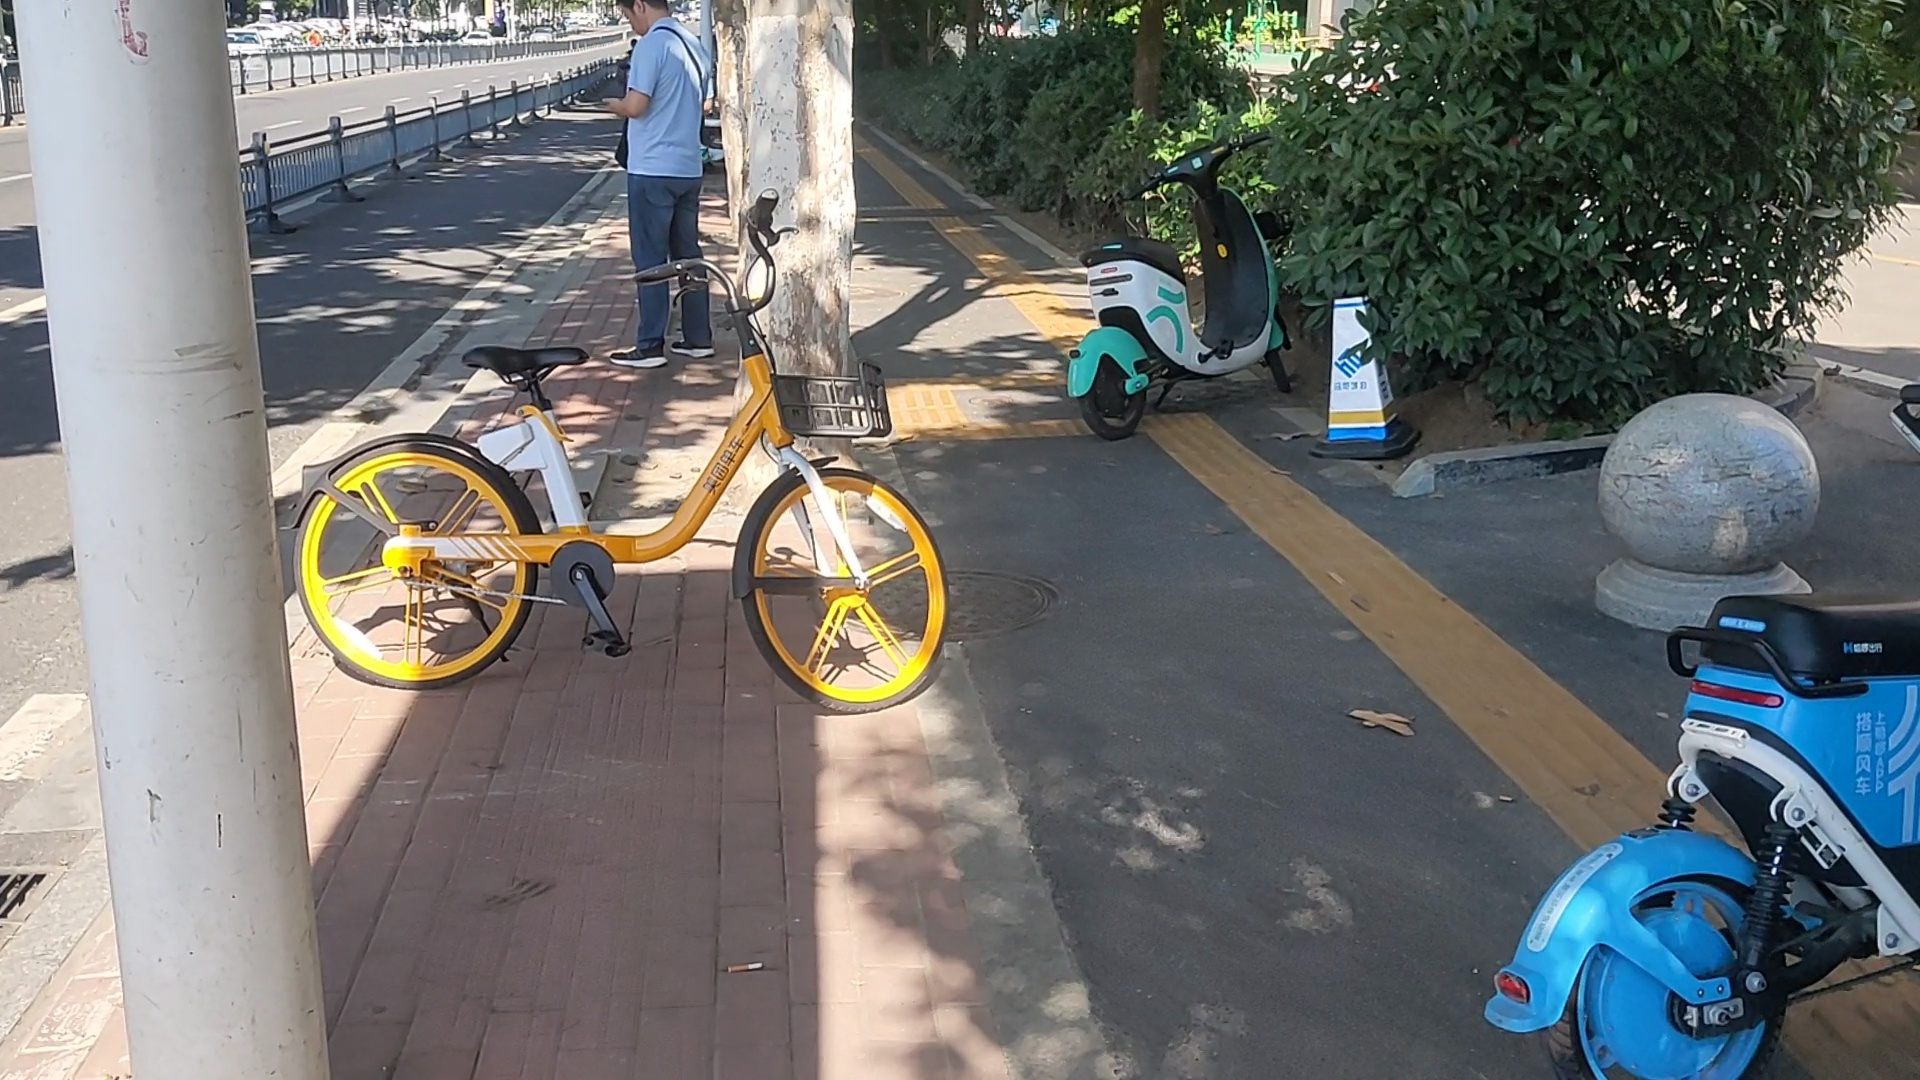non-vehicle: (301, 229, 957, 713), (1469, 579, 1919, 1080), (1062, 119, 1294, 443)
